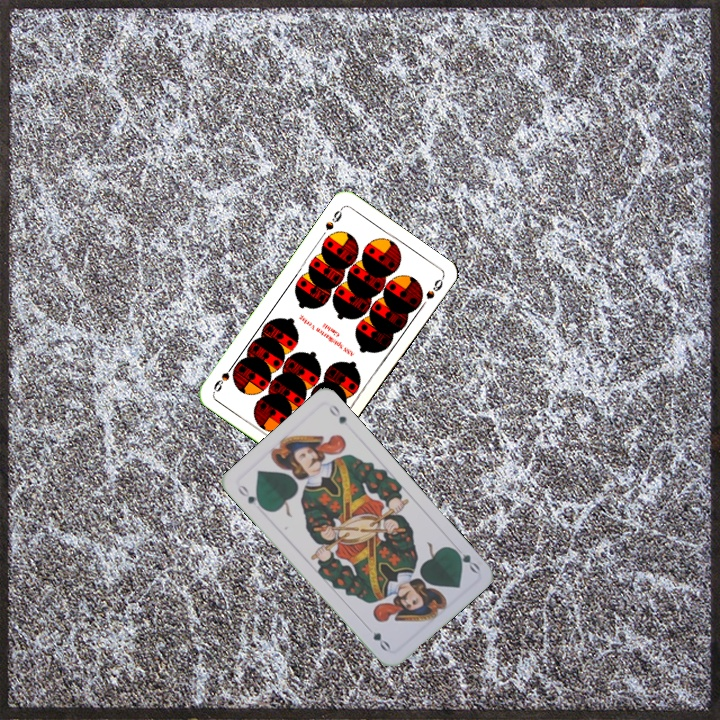GO: (448, 541, 482, 576), (233, 480, 267, 512)
S9: (321, 203, 346, 233)
